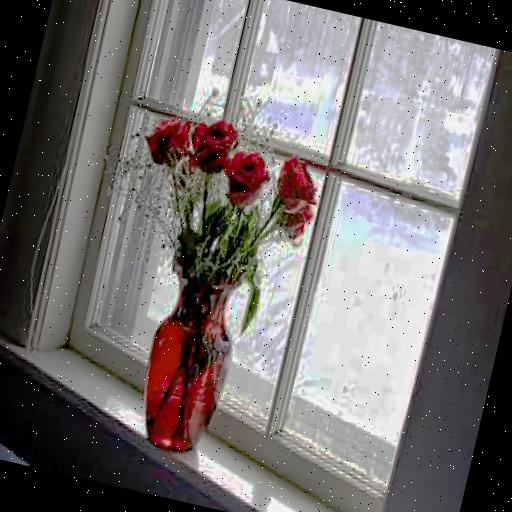rose: (216, 144, 276, 212), (182, 113, 240, 178), (140, 110, 198, 175), (274, 152, 324, 211)
